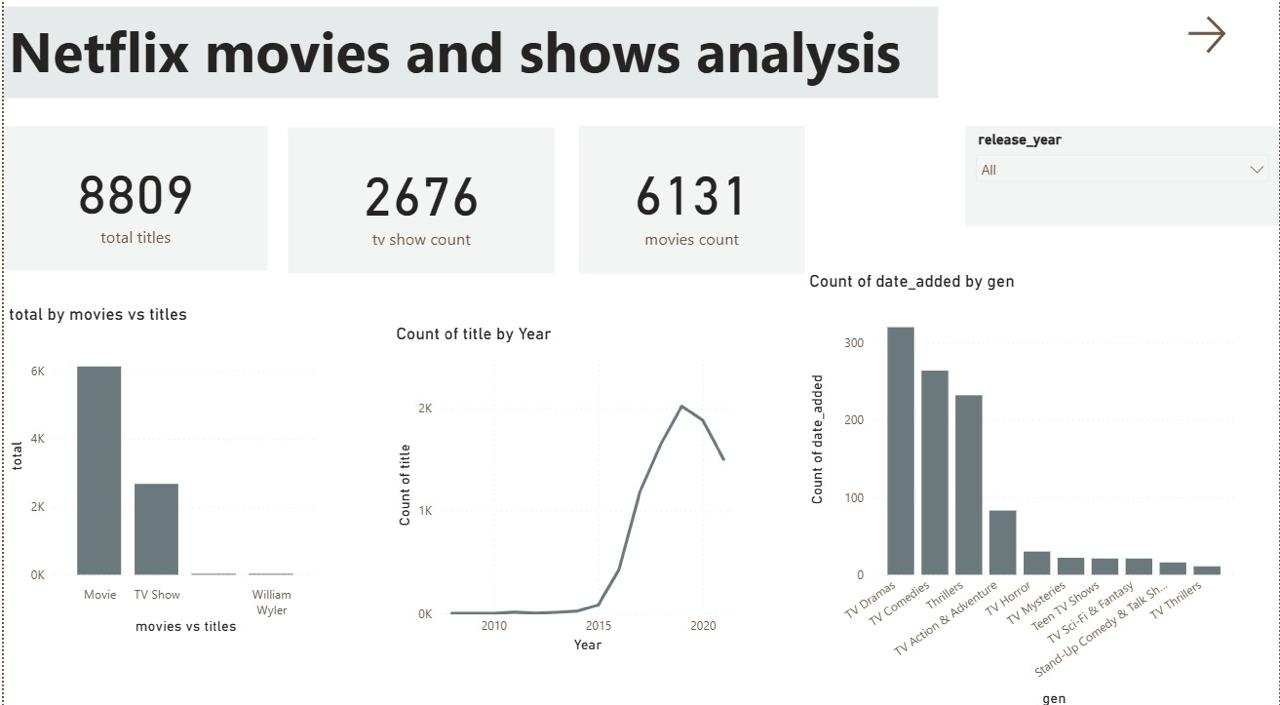

Layout of this report page (visuals, bound fields, positions):
{"tool":"powerbi","page":{"name":"ovaral","canvas":[1280,720],"ordinal":0},"visuals":[{"type":"card","fields":{"Values":["netflix_titles.total titles"]},"box":[0,133.3,265,145],"z":0},{"type":"card","fields":{"Values":["netflix_titles.tv show count"]},"box":[285,135,268.3,146.7],"z":1000},{"type":"columnChart","fields":{"Category":["netflix_titles.type"],"Y":["netflix_titles.total titles"]},"box":[0,311.7,320,336.7],"z":2000},{"type":"lineChart","fields":{"Category":["netflix_titles.date_added.Variation.Date Hierarchy.Year"],"Y":["netflix_titles.title"]},"box":[388.3,331.7,351.7,335],"z":3000},{"type":"clusteredColumnChart","fields":{"Category":["Genre.gen"],"Y":["netflix_titles.date_added"]},"box":[803.3,278.3,436.7,441.7],"z":4000},{"type":"slicer","fields":{"Values":["netflix_titles.release_year"]},"box":[965,133.3,315,100],"z":5000},{"type":"card","fields":{"Values":["netflix_titles.movies count"]},"box":[576.7,133.3,226.7,148.3],"z":6000},{"type":"textbox","box":[0,0,940,105],"z":7000},{"type":"actionButton","box":[1156.7,13.3,100,56.7],"z":8000},{"type":"actionButton","box":[590,65,100,5],"z":9000}]}

Visuals, with their boxes in screenshot pixels (x1, y1, x2, y2), scaled from the page's 1280x720 canvas onto the 1280x705 screenshot:
card - netflix_titles.total titles: 0 131 265 273
card - netflix_titles.tv show count: 285 132 553 276
columnChart - netflix_titles.type x netflix_titles.total titles: 0 305 320 635
lineChart - netflix_titles.date_added.Variation.Date Hierarchy.Year x netflix_titles.title: 388 325 740 653
clusteredColumnChart - Genre.gen x netflix_titles.date_added: 803 273 1240 704
slicer - netflix_titles.release_year: 965 131 1279 228
card - netflix_titles.movies count: 577 131 803 276
textbox: 0 0 940 103
actionButton: 1157 13 1257 69
actionButton: 590 64 690 69
